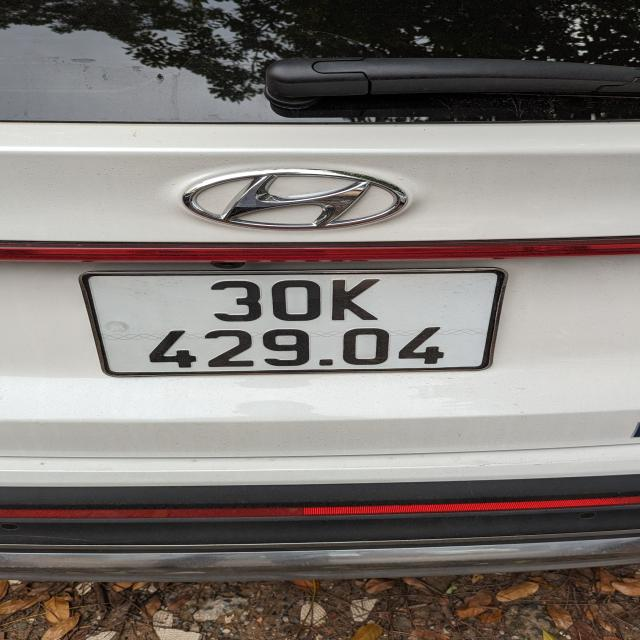License: (78, 266, 508, 377)
